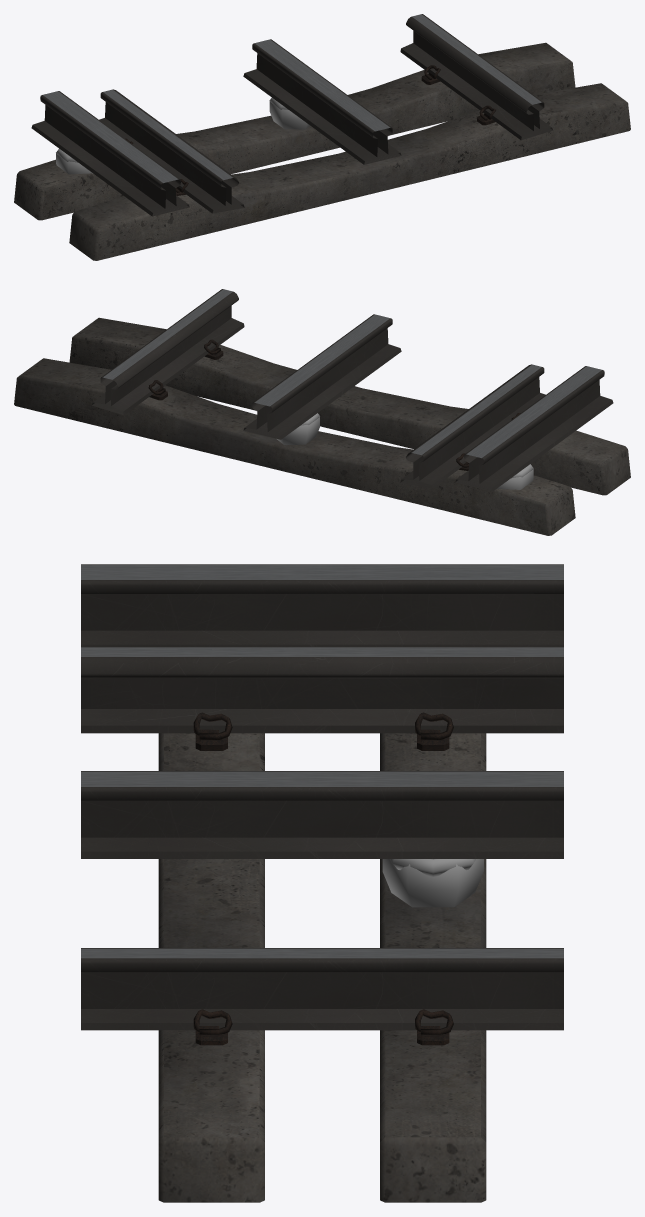
Rendered from track_dark.obj.
The picture shows the model from 3 angles, top to bottom: view 1: azimuth 30°, elevation 25°; view 2: azimuth 150°, elevation 25°; view 3: azimuth 270°, elevation 25°; orthographic projection. The views are drawn at different scales.
Visible parts, largest first — view 1: Full_LOD0_LOD0.007, Full_LOD0_LOD0.002, Full_LOD0_LOD0, Full_LOD0_LOD0.001, Full_LOD0_LOD0.003, Sphere.002, Sphere.003; view 2: Full_LOD0_LOD0.002, Full_LOD0_LOD0.007, Full_LOD0_LOD0, Full_LOD0_LOD0.001, Full_LOD0_LOD0.003, Sphere.002, Sphere.003; view 3: Full_LOD0_LOD0, Full_LOD0_LOD0.001, Full_LOD0_LOD0.003, Full_LOD0_LOD0.007, Full_LOD0_LOD0.002, Sphere.002, Full_LOD0_LOD0.008, Full_LOD0_LOD0.005.
Part boxes in pixels (x1,y1,x2,y2): Full_LOD0_LOD0.007: (69, 83, 630, 260); Full_LOD0_LOD0.002: (14, 42, 575, 220); Full_LOD0_LOD0: (99, 14, 553, 213); Full_LOD0_LOD0.001: (243, 39, 401, 164); Full_LOD0_LOD0.003: (31, 91, 189, 216); Sphere.002: (269, 98, 310, 129); Sphere.003: (56, 148, 93, 174); Full_LOD0_LOD0.002: (14, 358, 575, 535); Full_LOD0_LOD0.007: (69, 317, 630, 495); Full_LOD0_LOD0: (91, 289, 545, 488); Full_LOD0_LOD0.001: (243, 314, 401, 439); Full_LOD0_LOD0.003: (455, 366, 613, 491); Sphere.002: (277, 413, 319, 444); Sphere.003: (496, 464, 533, 489); Full_LOD0_LOD0: (81, 646, 563, 1030); Full_LOD0_LOD0.001: (81, 771, 563, 858); Full_LOD0_LOD0.003: (81, 564, 563, 646); Full_LOD0_LOD0.007: (158, 733, 264, 1202); Full_LOD0_LOD0.002: (380, 733, 486, 1202); Sphere.002: (382, 859, 483, 907); Full_LOD0_LOD0.008: (193, 712, 232, 1034); Full_LOD0_LOD0.005: (415, 712, 453, 1034).
Size of the model in its own units: 2.63 by 0.3762 by 1.02.
5 materials, 5 textured.
